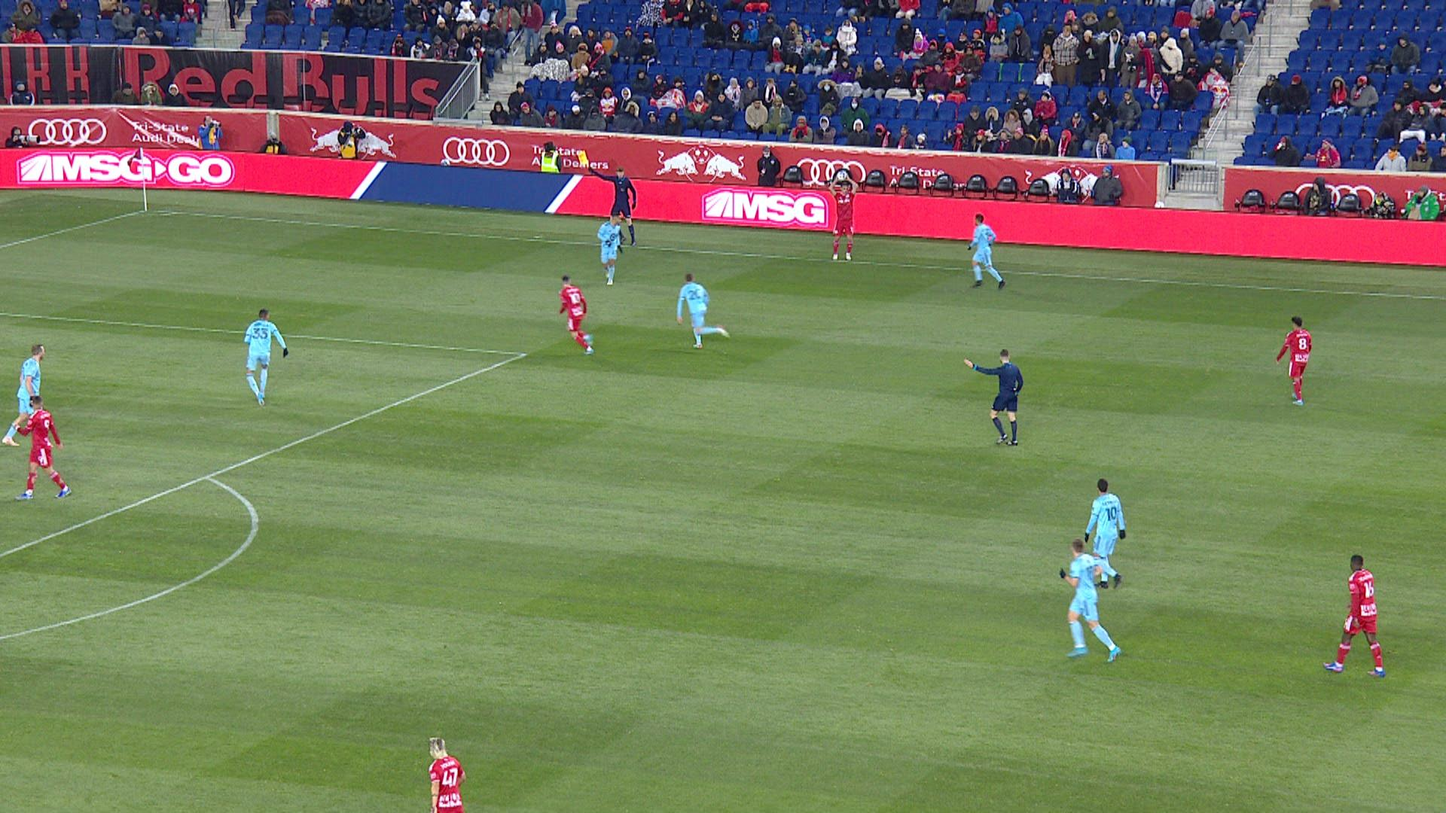Player: (1059, 538, 1121, 663), (1323, 555, 1385, 677), (12, 395, 71, 501), (1084, 479, 1125, 590), (2, 344, 45, 447), (244, 309, 287, 405), (677, 273, 731, 349), (1276, 317, 1312, 406), (559, 276, 595, 356), (967, 214, 1005, 289), (429, 738, 466, 813), (829, 176, 858, 261), (597, 213, 622, 286), (619, 231, 626, 245)
ball: (836, 169, 847, 179)
referee: (963, 349, 1023, 445), (590, 168, 637, 247)
